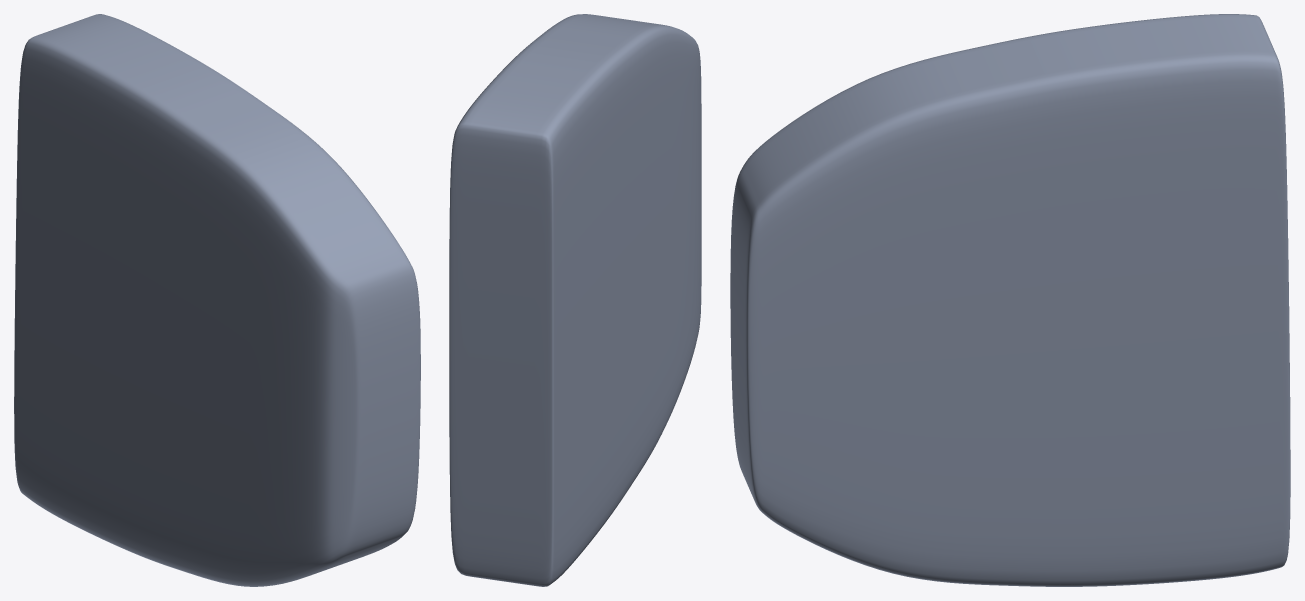
3 views of the same model, side by side, from view 1: azimuth 30°, elevation 25°; view 2: azimuth 150°, elevation 25°; view 3: azimuth 270°, elevation 25° (orthographic). The views are drawn at different scales.
Parts seen in each view (by area): view 1: Cube.032; view 2: Cube.032; view 3: Cube.032.
Part boxes in pixels (x1=…): Cube.032: x1=14, y1=14, x2=420, y2=586; Cube.032: x1=449, y1=14, x2=701, y2=586; Cube.032: x1=730, y1=14, x2=1290, y2=586.
Bounding box in the file's own units: 0.00791 × 0.0204 × 0.0197.
